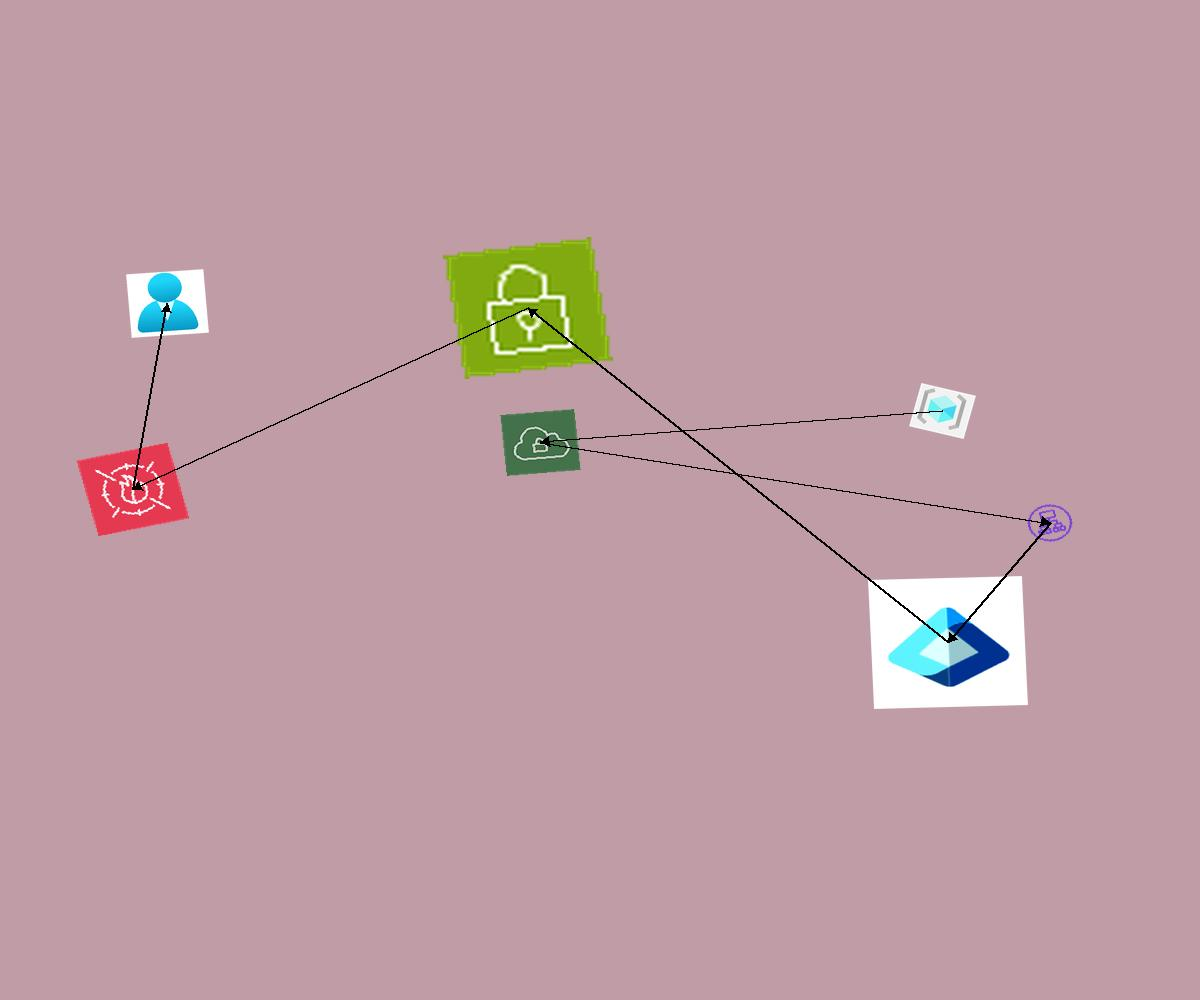AWS-Private_vpc: (500, 409, 581, 476)
AWS-Public-subnet: (443, 237, 613, 379)
AWS-Res_Elastic-Load-Balancing_Application-Load-Balancer: (1020, 498, 1080, 548)
AWS-WAF: (76, 442, 190, 537)
Azure_microsoft_entra: (868, 576, 1028, 709)
Azure_resource_group: (909, 383, 976, 439)
Azure_users: (126, 269, 209, 338)
